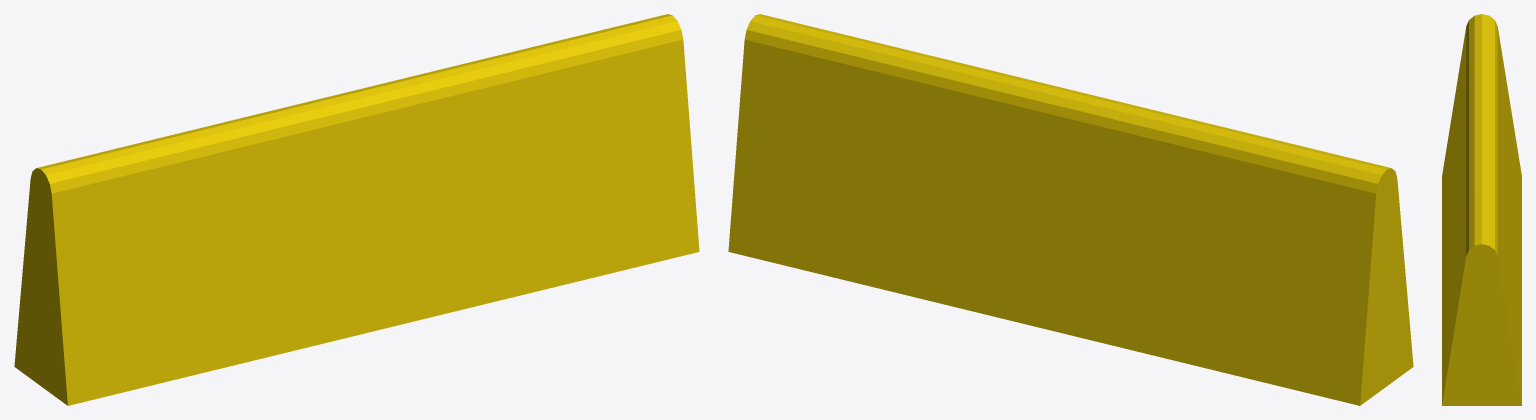
The model's file is Crack_Prop.fbx.
3 renders of one model, left to right at view 1: azimuth 30°, elevation 25°; view 2: azimuth 150°, elevation 25°; view 3: azimuth 270°, elevation 25°, orthographic. The views are drawn at different scales.
Visible parts, largest first — view 1: shard5, shard3, shard4, shard1, shard2; view 2: shard4, shard5, shard3, shard2, shard1; view 3: shard3, shard5, shard4, shard1, shard2.
Part boxes in pixels (box(x1,y1,x2,y2)): shard5: box(20, 87, 379, 405); shard3: box(408, 14, 699, 268); shard4: box(14, 164, 503, 403); shard1: box(366, 53, 539, 188); shard2: box(465, 191, 628, 299); shard4: box(918, 122, 1409, 405); shard5: box(1049, 87, 1413, 368); shard3: box(731, 14, 1025, 219); shard2: box(728, 137, 979, 297); shard1: box(903, 49, 1060, 137); shard3: box(1442, 164, 1518, 405); shard5: box(1442, 14, 1513, 192); shard4: box(1442, 124, 1521, 335); shard1: box(1458, 134, 1500, 199); shard2: box(1442, 200, 1521, 405).
Size of the model in its own units: 10.84 by 3.56 by 1.59.
